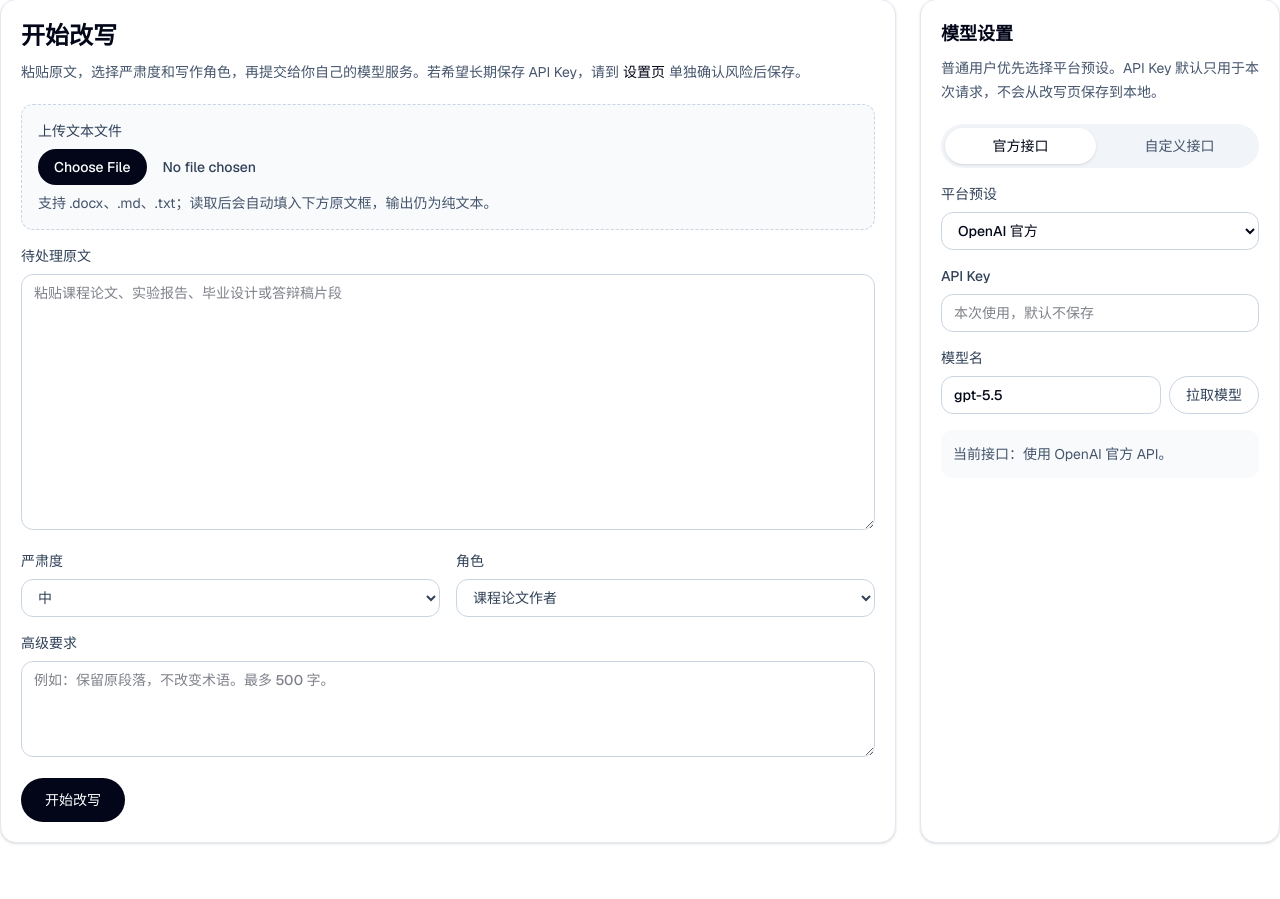
Test case: RewriteForm › requires all custom role fields when role is custom
Type "这是原文。" into the text box labelled "待处理原文" at (448, 402), box [21,274,875,530]
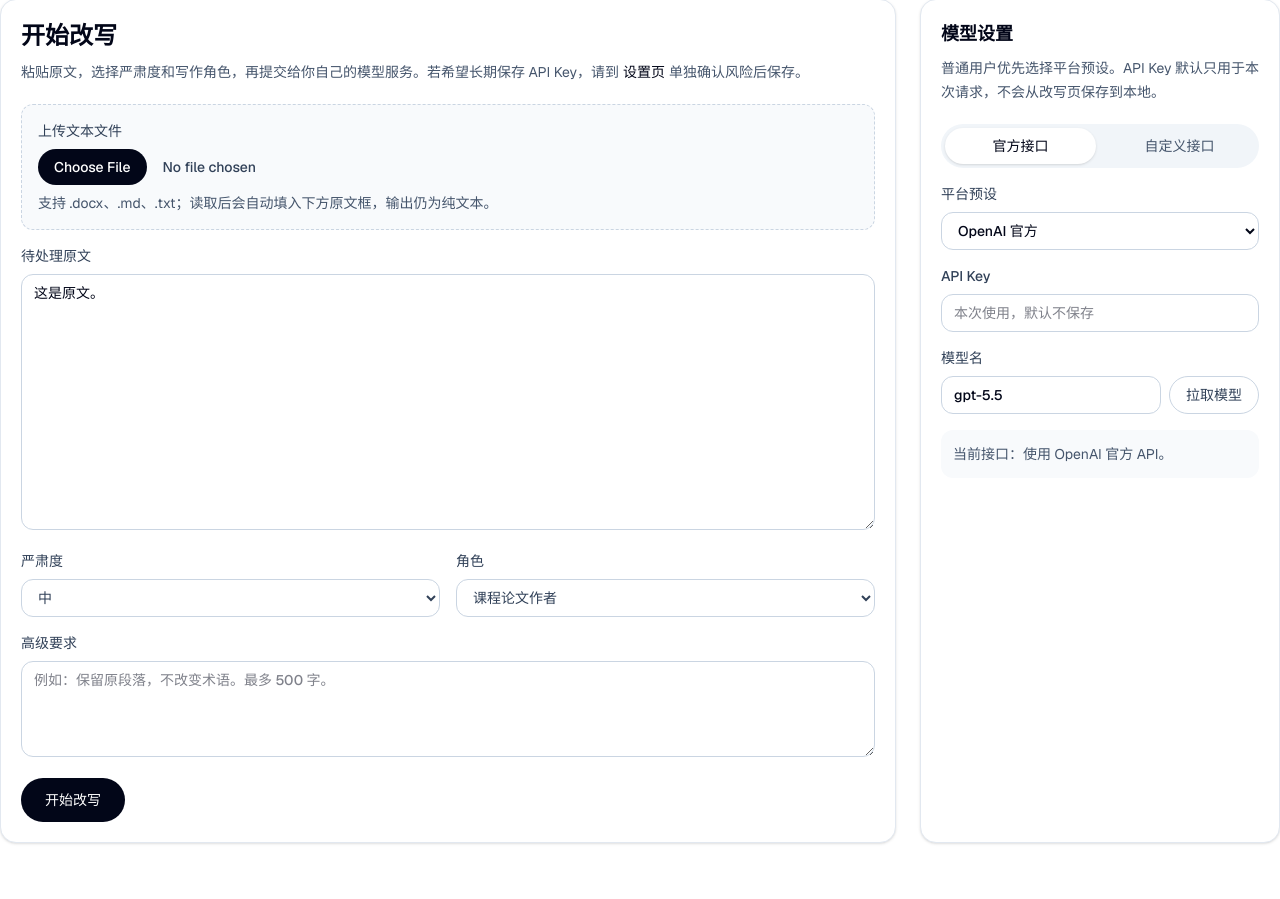
Select "自定义" in the dropdown labelled "角色" at (666, 598), box [456,579,875,617]
(page scrolled)
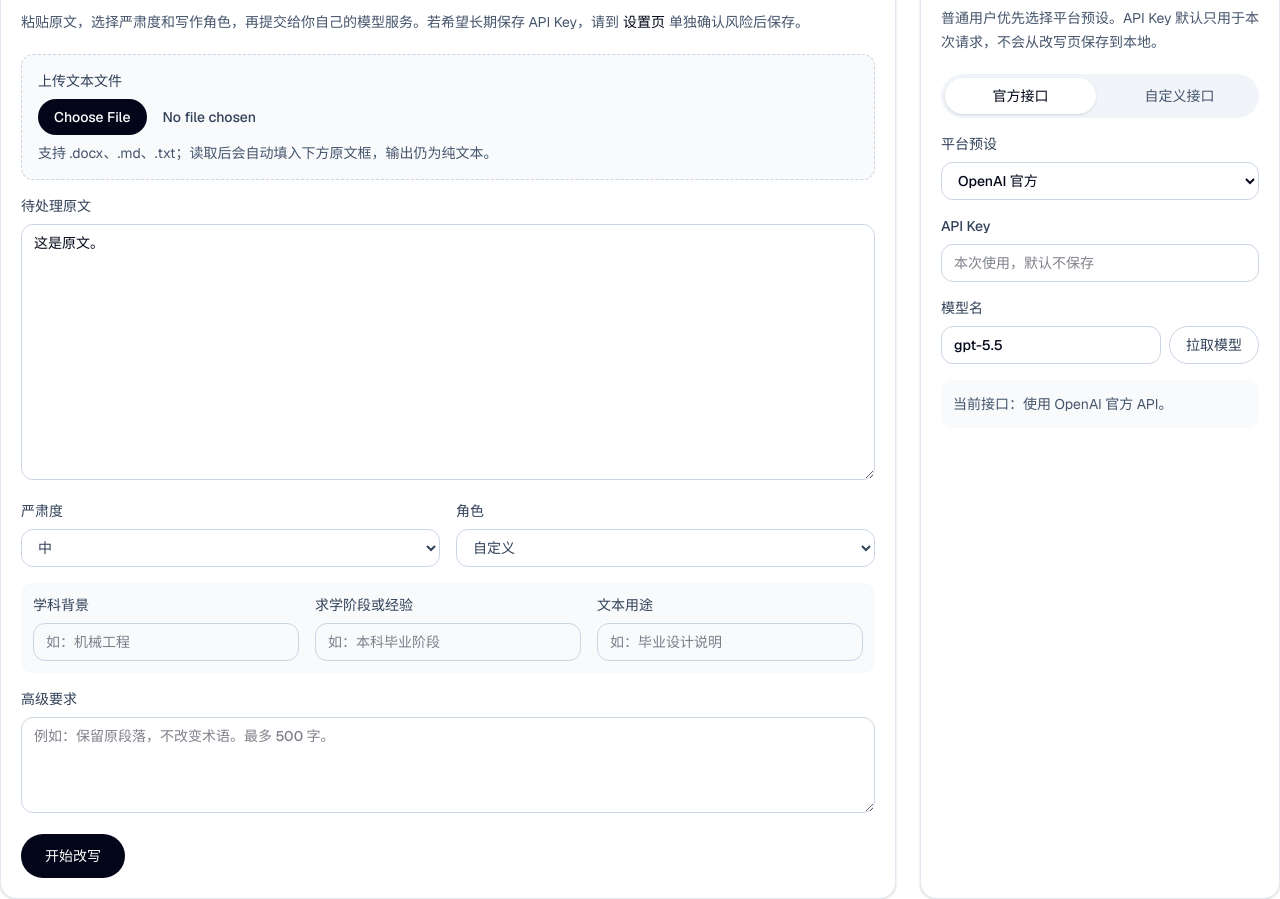
Click the button "开始改写" at (73, 856), box [21,834,125,878]
(page scrolled)
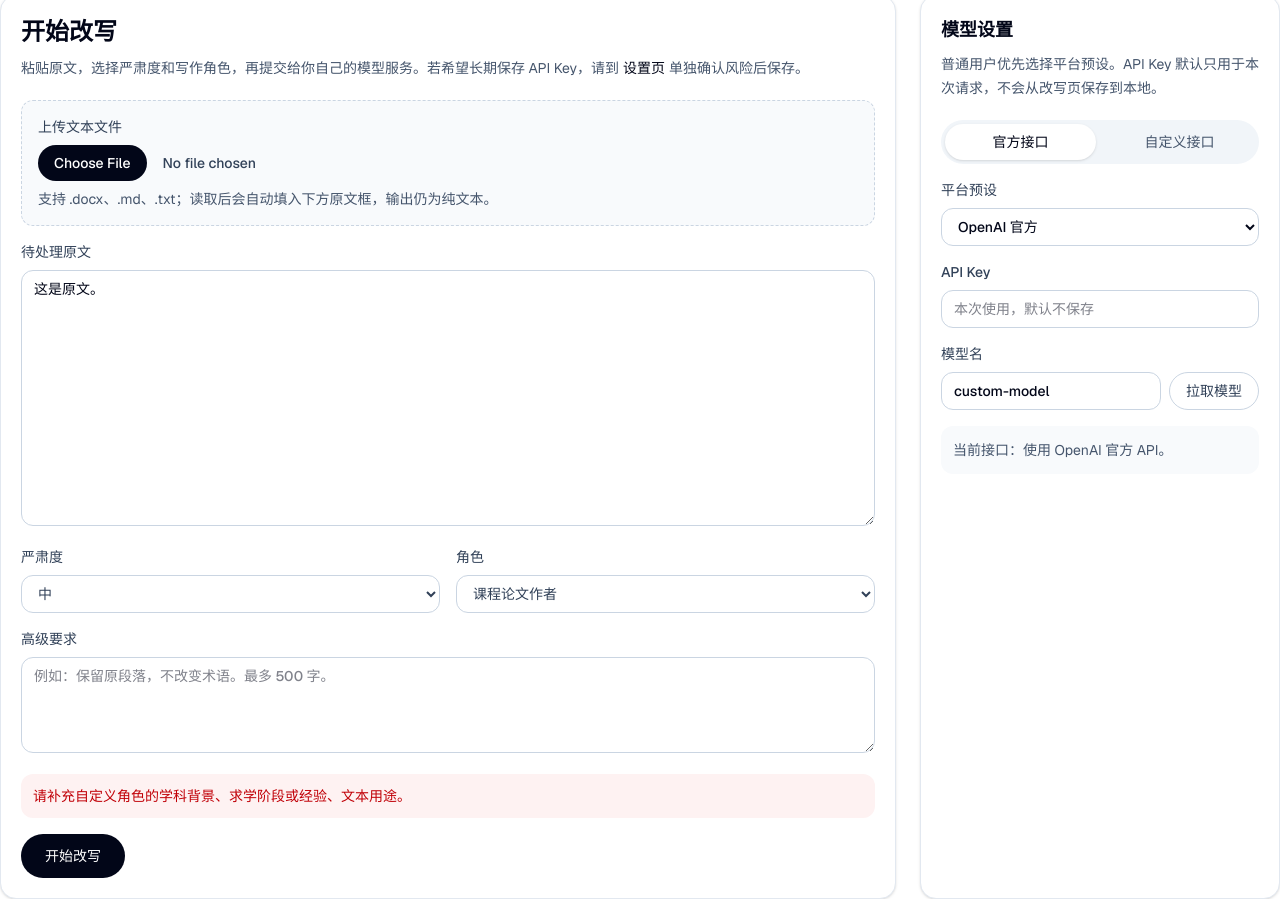
Expected: the text "请补充自定义角色的学科背景、求学阶段或经验、文本用途。" is shown, [21,774,875,818]
